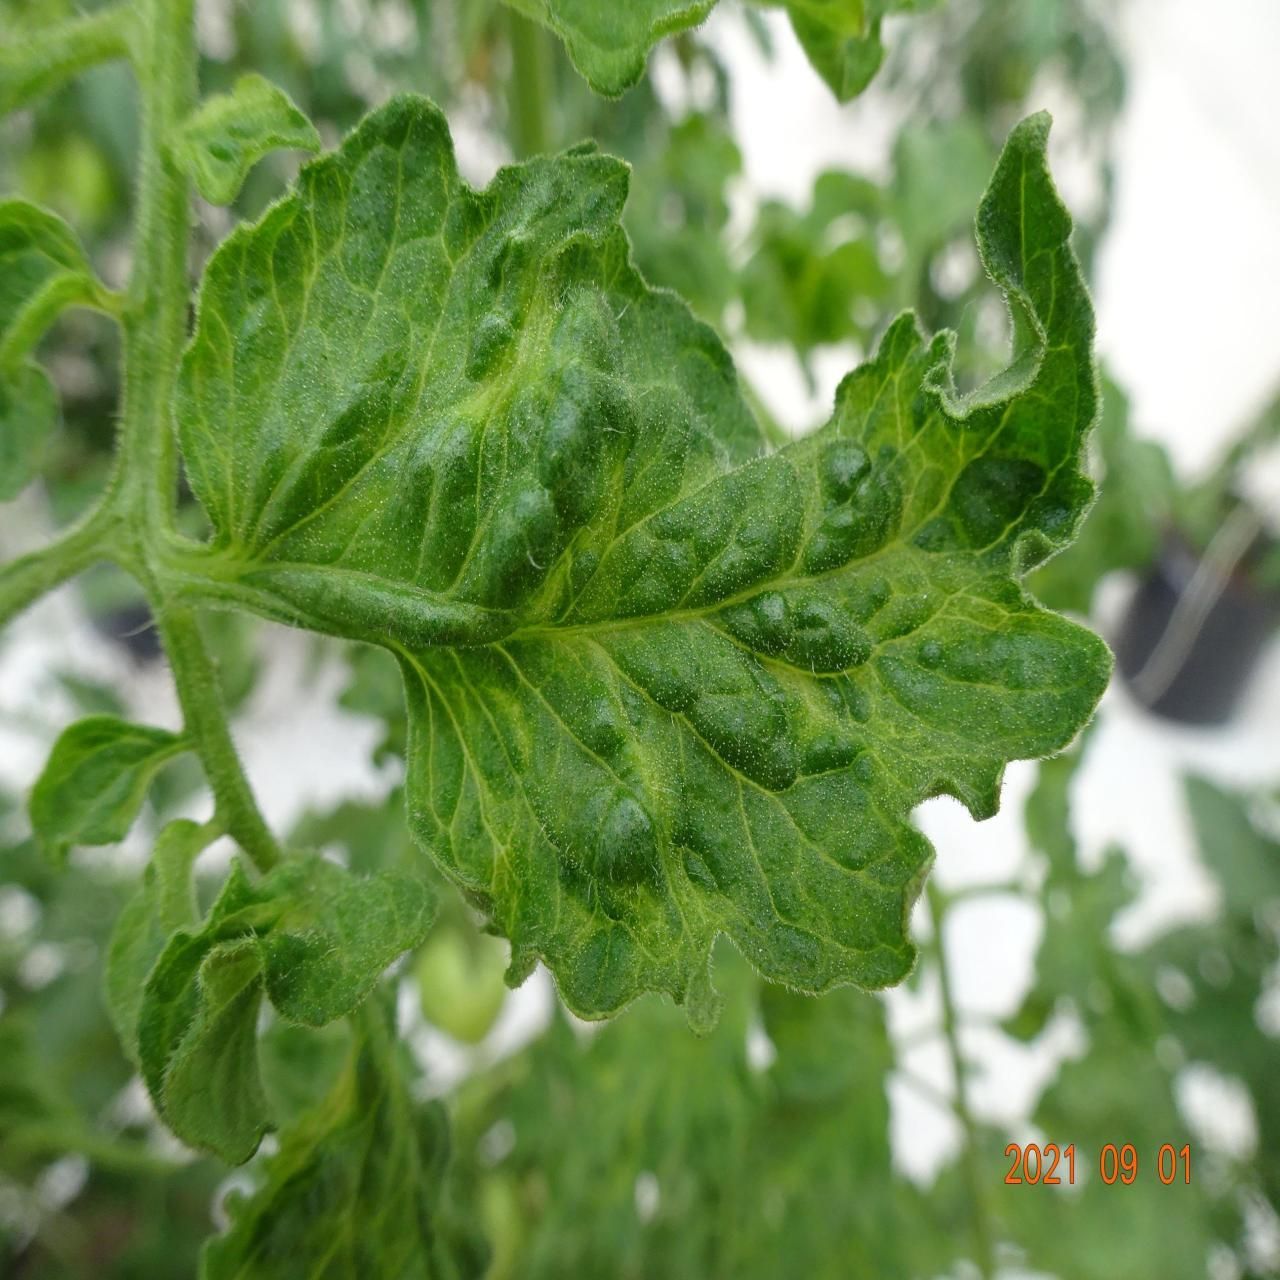T_L_R: (177, 100, 1114, 1026)
